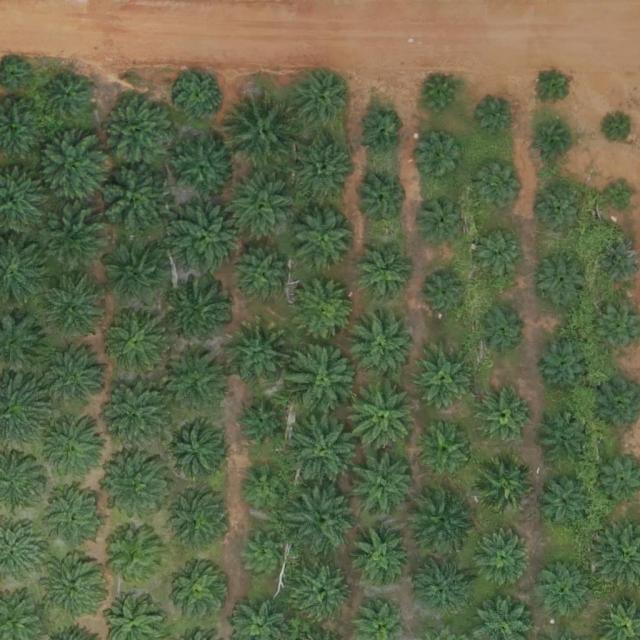Healthy: (101, 91, 179, 170), (94, 161, 172, 240), (97, 377, 175, 456), (169, 201, 247, 280), (226, 92, 304, 171), (223, 169, 301, 248), (287, 341, 365, 420), (287, 412, 365, 491), (344, 379, 422, 458), (41, 345, 112, 416), (407, 487, 477, 558), (37, 134, 107, 204), (38, 204, 108, 274), (288, 485, 358, 555), (99, 455, 169, 525), (34, 413, 104, 483), (230, 323, 293, 386), (104, 525, 167, 588), (106, 246, 168, 309), (107, 309, 169, 372), (172, 136, 235, 198), (174, 281, 236, 344), (166, 346, 228, 409), (410, 348, 473, 410), (531, 560, 593, 623), (350, 524, 412, 587), (291, 561, 353, 624), (164, 419, 226, 482), (165, 489, 227, 552), (170, 559, 232, 622), (43, 488, 105, 551), (42, 558, 104, 621), (291, 69, 353, 131), (294, 141, 356, 203), (294, 208, 356, 270), (295, 281, 357, 343), (352, 316, 414, 378), (475, 458, 537, 520), (471, 530, 533, 592), (353, 453, 415, 515), (46, 281, 101, 336), (358, 248, 413, 303), (478, 391, 533, 446), (538, 340, 593, 395), (539, 476, 594, 531), (419, 426, 474, 481), (415, 561, 470, 616), (236, 250, 290, 305), (538, 414, 592, 469), (46, 74, 93, 121), (177, 72, 224, 119), (237, 402, 284, 449)
Small: (354, 172, 409, 227), (536, 253, 591, 308), (476, 228, 523, 276), (419, 196, 466, 244), (422, 270, 469, 318), (478, 305, 525, 353), (357, 109, 404, 157), (418, 136, 465, 183), (476, 162, 523, 209), (537, 189, 584, 236), (242, 531, 289, 578), (242, 466, 289, 513), (534, 122, 574, 162), (477, 97, 516, 137), (533, 67, 573, 106), (421, 77, 460, 116), (606, 114, 637, 146), (605, 180, 636, 212)
